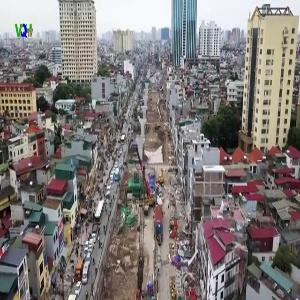drone: (76, 168, 140, 232)
